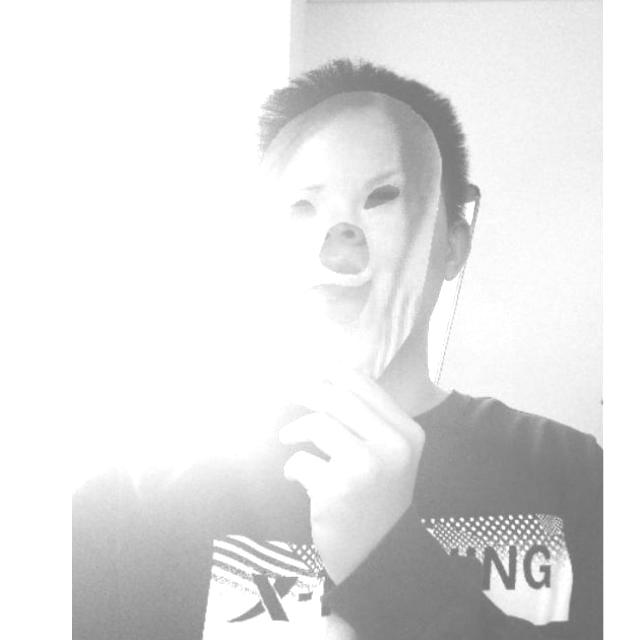fake: (239, 86, 443, 404)
